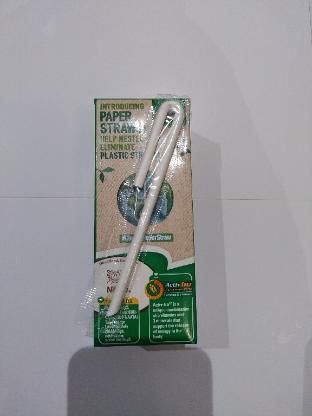Others: (90, 92, 201, 348)
